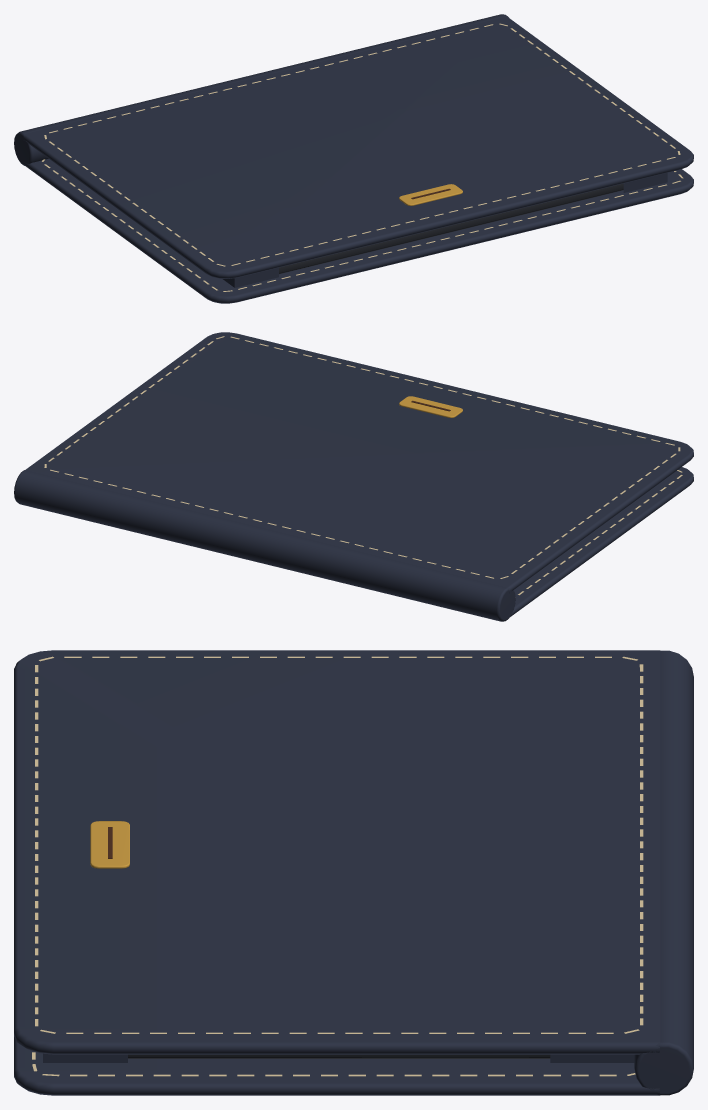
Rendered from RmFolder.fbx.
The picture shows the model from 3 angles, top to bottom: view 1: azimuth 30°, elevation 25°; view 2: azimuth 150°, elevation 25°; view 3: azimuth 270°, elevation 25°; orthographic projection. The views are drawn at different scales.
Parts seen in each view (by area): view 1: FolderCover, RmFolderBody; view 2: FolderCover, RmFolderBody; view 3: FolderCover, RmFolderBody.
Part boxes in pixels (x1=…): FolderCover: x1=23, y1=16, x2=693, y2=278; RmFolderBody: x1=14, y1=14, x2=693, y2=303; FolderCover: x1=25, y1=332, x2=693, y2=592; RmFolderBody: x1=14, y1=467, x2=693, y2=621; FolderCover: x1=14, y1=650, x2=660, y2=1054; RmFolderBody: x1=14, y1=650, x2=693, y2=1095.
Bounding box in the file's own units: 0.33 × 0.0223 × 0.24.
